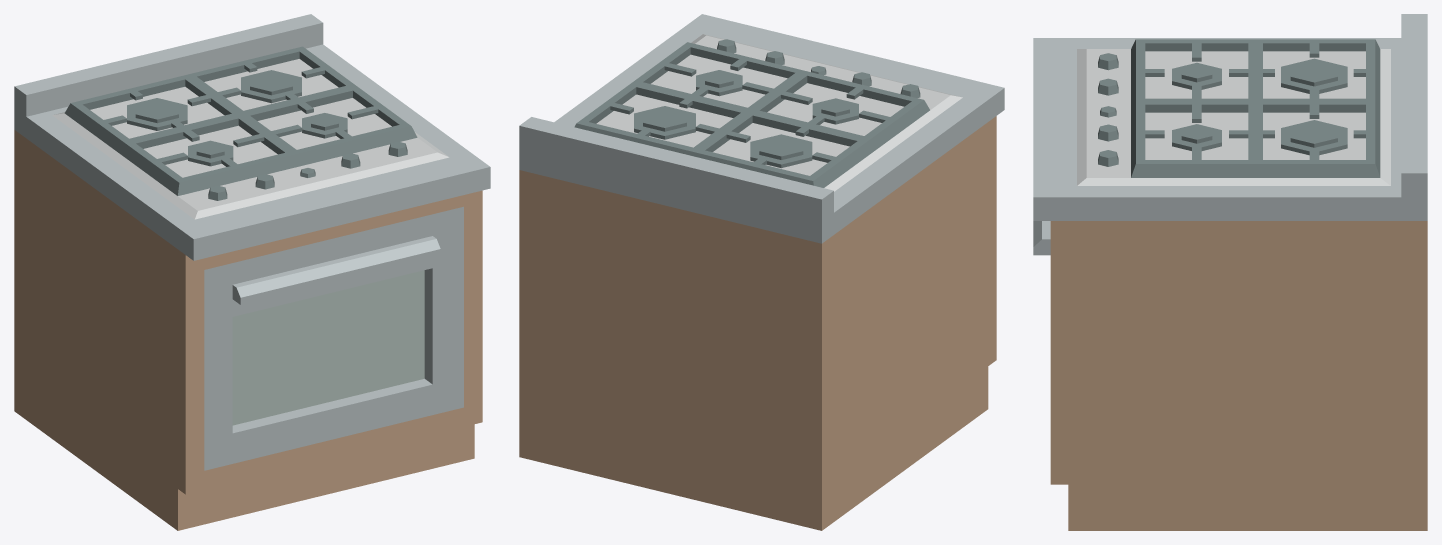
The model's file is kitchenStove.glb.
The picture shows the model from 3 angles, left to right: view 1: azimuth 30°, elevation 25°; view 2: azimuth 150°, elevation 25°; view 3: azimuth 270°, elevation 25°; orthographic projection. The views are drawn at different scales.
Visible parts, largest first — view 1: kitchenStove; view 2: kitchenStove; view 3: kitchenStove.
Part boxes in pixels (x1,y1,x2,y2): kitchenStove: [14, 14, 490, 530]; kitchenStove: [519, 14, 1004, 530]; kitchenStove: [1033, 14, 1427, 530].
Bounding box in the file's own units: 0.43 × 0.45 × 0.45.
